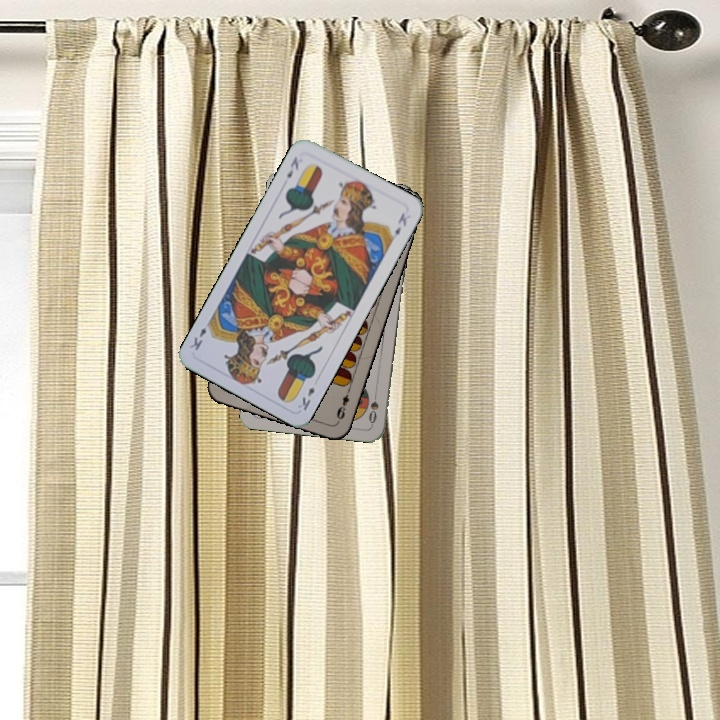E9: (332, 385, 353, 424)
EK: (294, 382, 317, 413), (282, 152, 301, 181)
SO: (365, 386, 381, 427)
